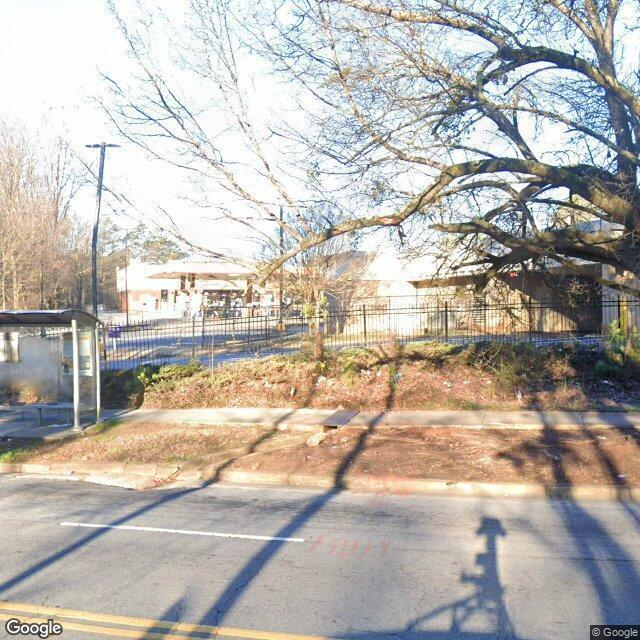seating: (22, 402, 84, 427)
shelter: (0, 308, 103, 436)
